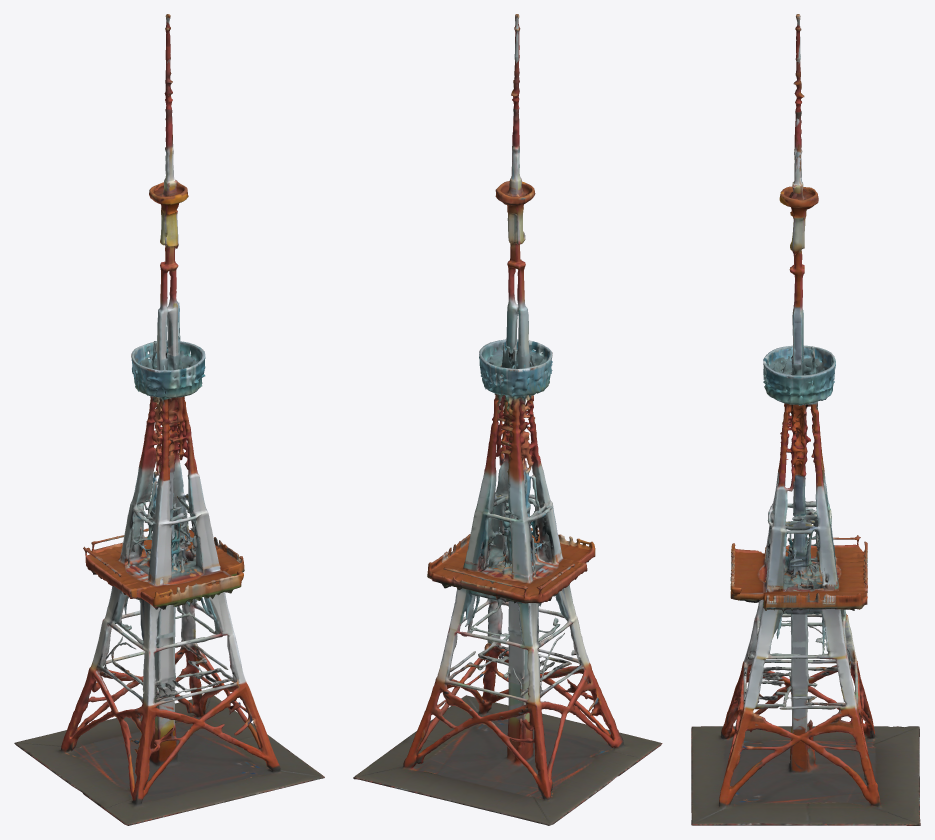
The model's file is andza.glb.
3 renders of one model, left to right at view 1: azimuth 30°, elevation 25°; view 2: azimuth 150°, elevation 25°; view 3: azimuth 270°, elevation 25°, orthographic.
Size of the model in its own units: 0.5473 by 1.97 by 0.5395.
1 material, 1 textured.
